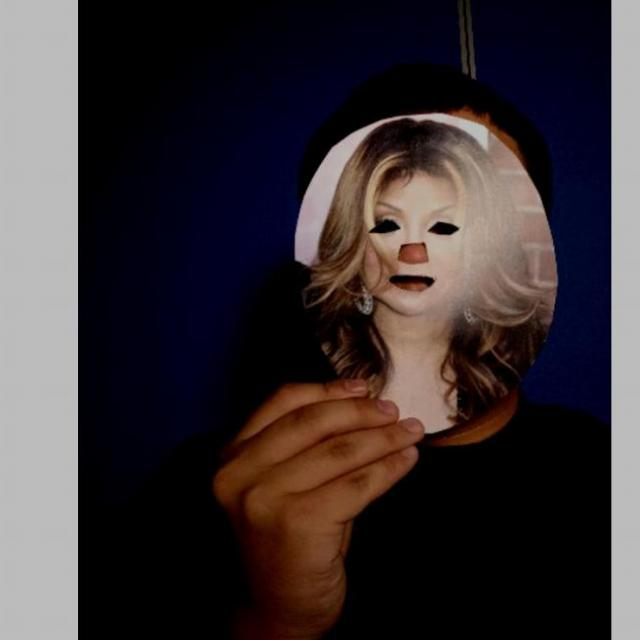mask: (290, 118, 560, 442)
